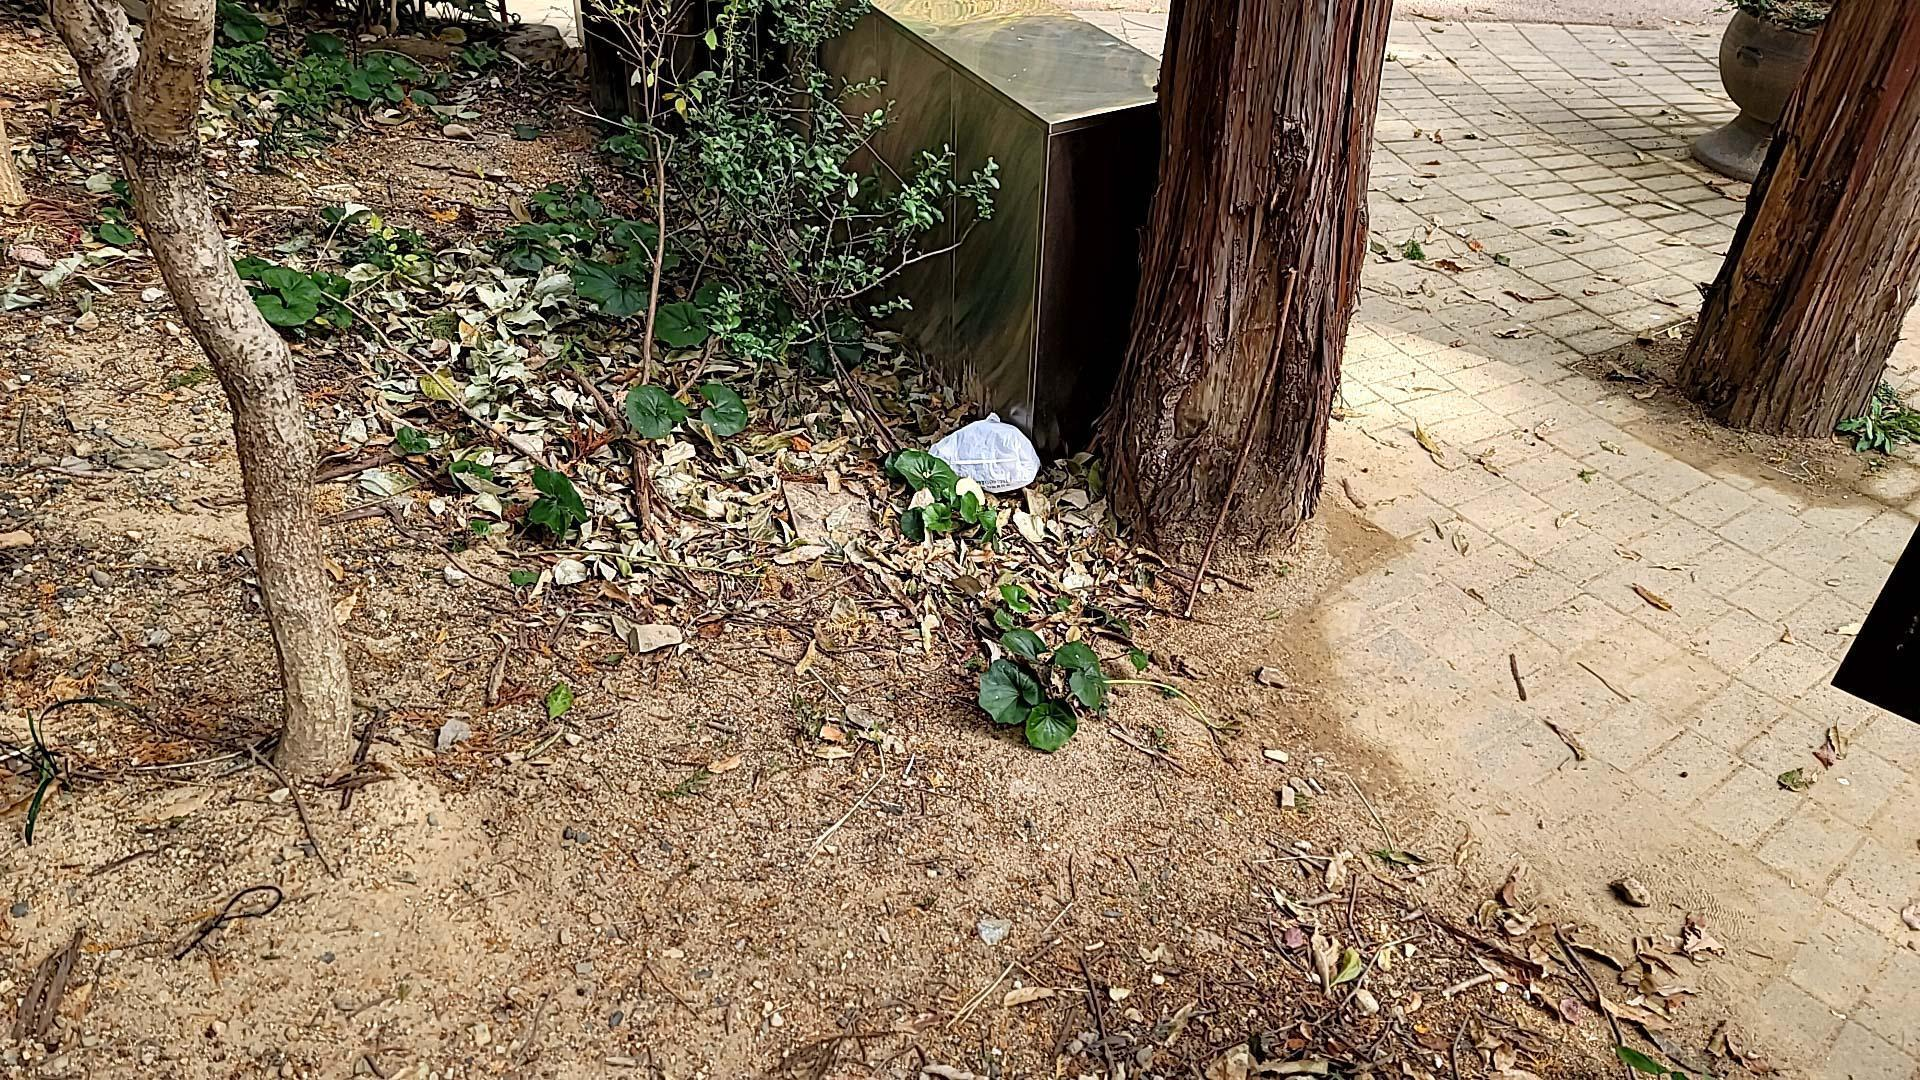white_bag: (909, 413, 1048, 501)
